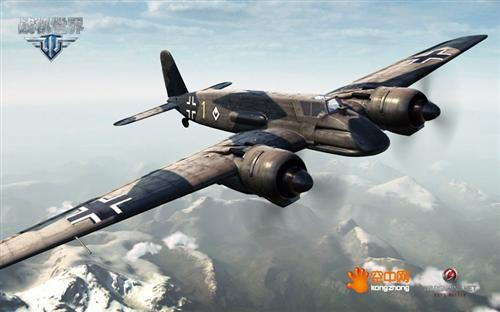airplane: (1, 33, 487, 273)
